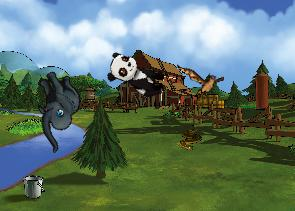eagle: (177, 62, 225, 100)
elephant: (14, 64, 99, 153)
panda: (103, 49, 170, 101)
